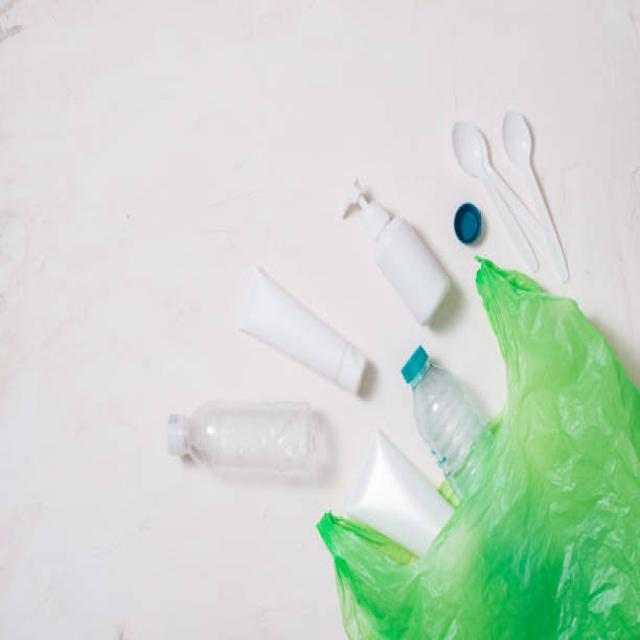plastic: (194, 114, 619, 640)
